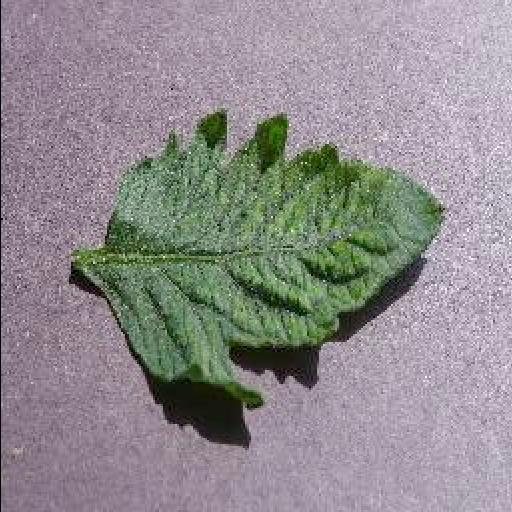disease_tomato: (77, 111, 451, 409)
